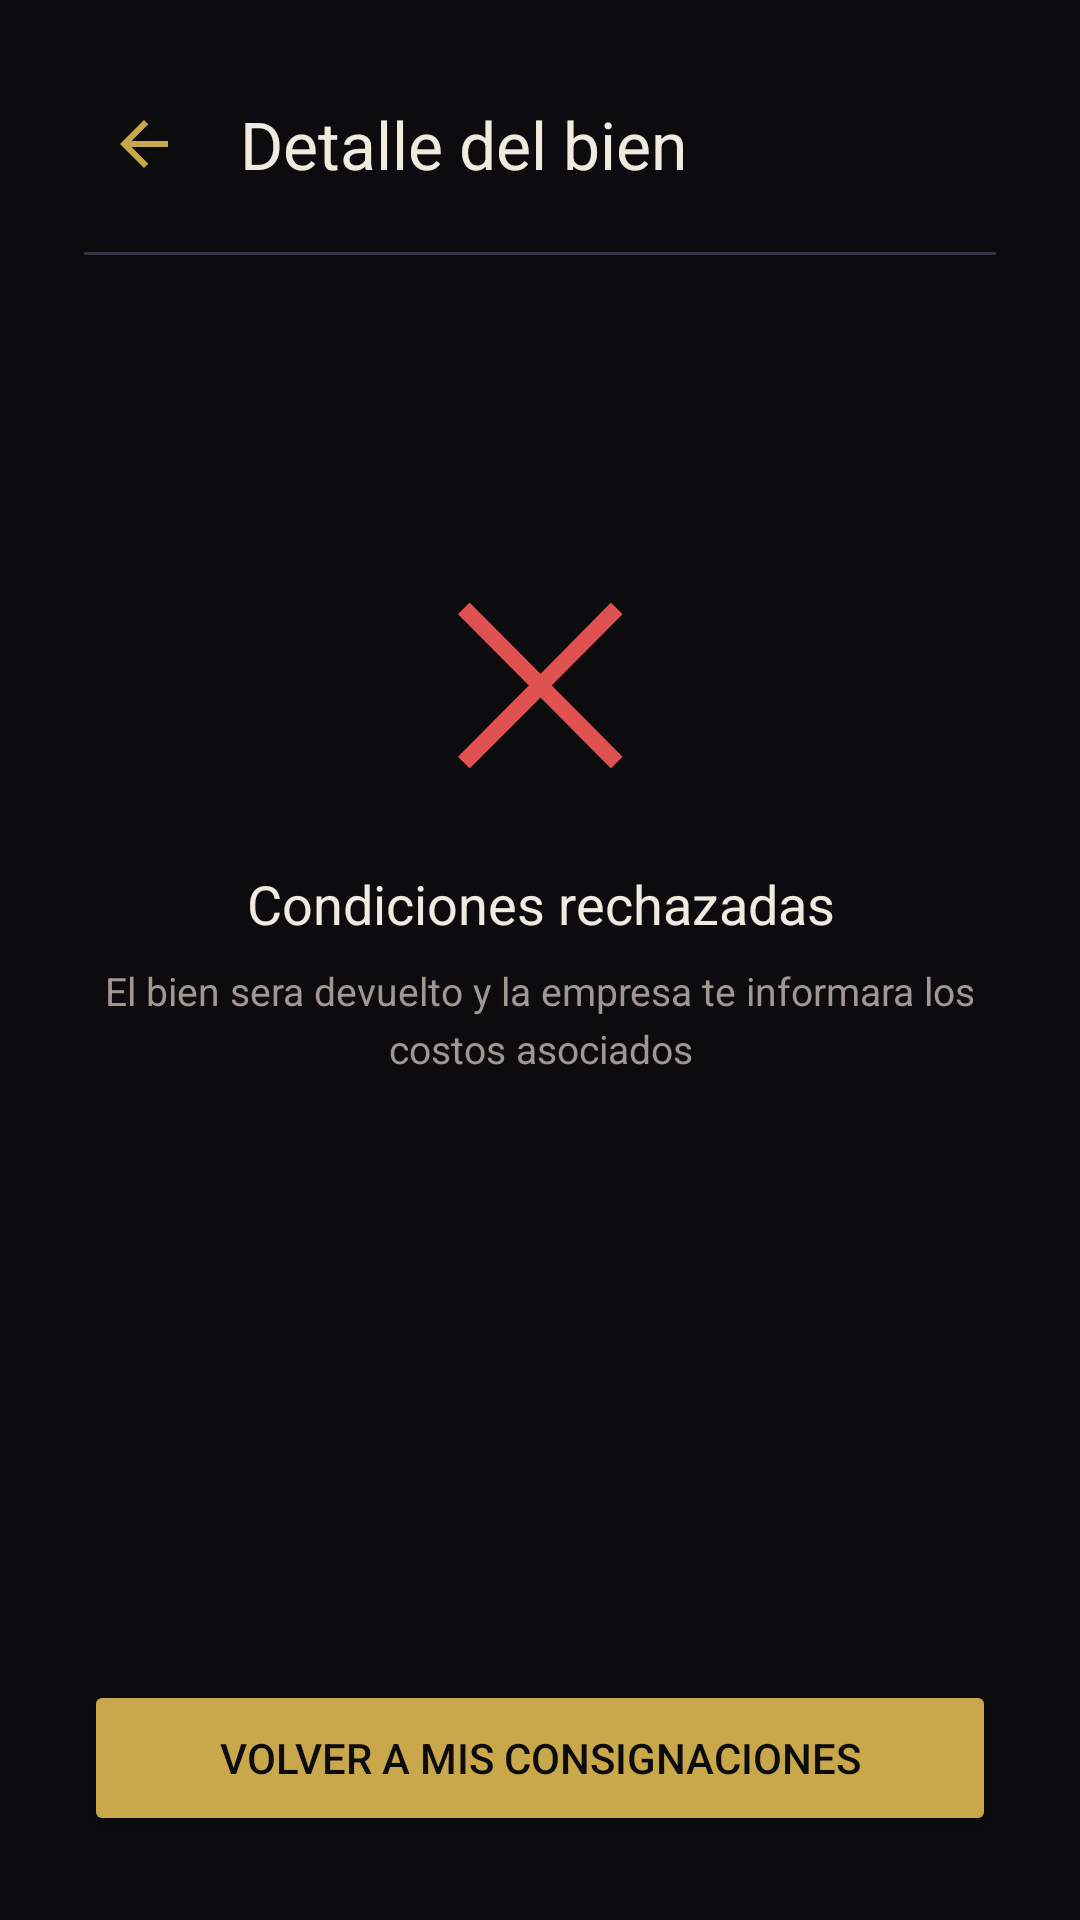

Icon bounding boxes for this 1080 × 1920 phone screenshot, format rect(x1, y1, x2, y2):
arrow back: rect(120, 120, 168, 168)
